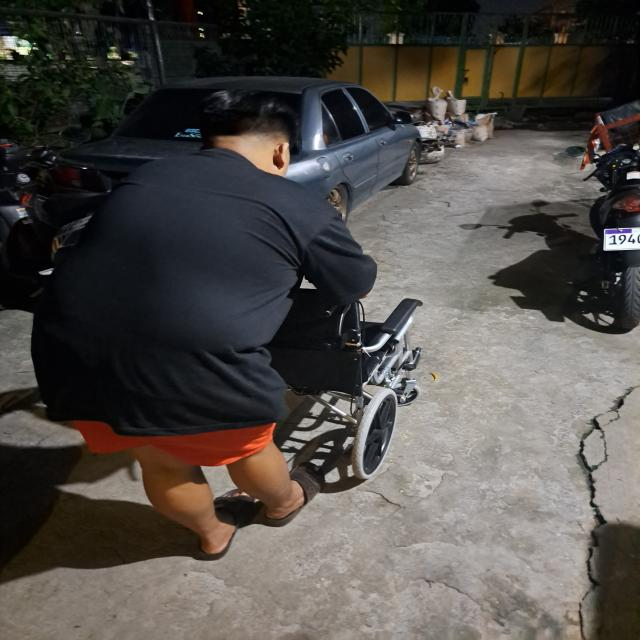wheelchairs: (258, 278, 448, 490)
